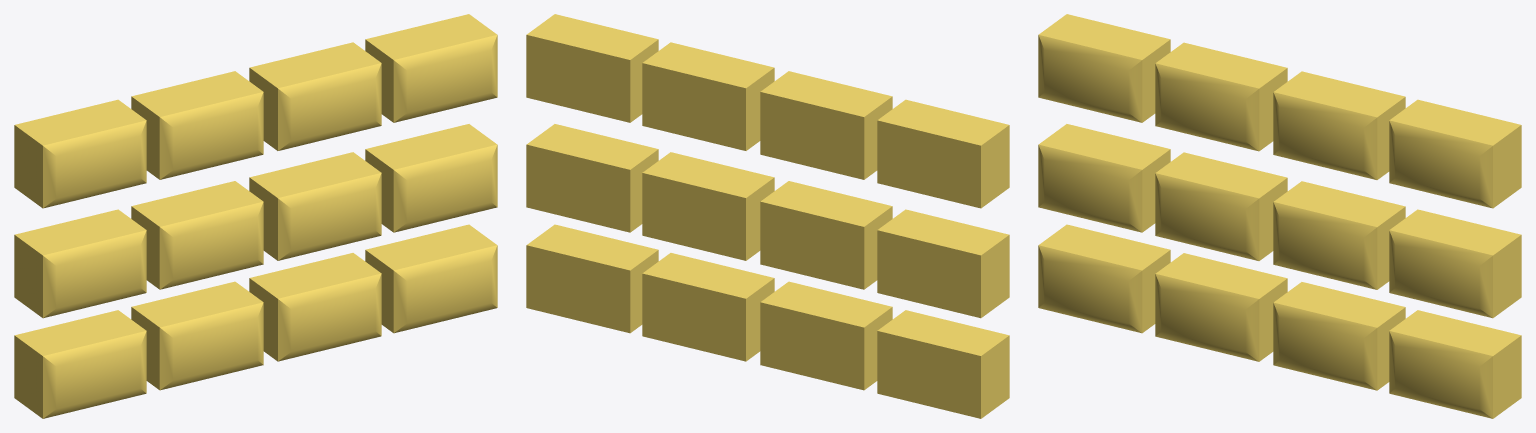
The model's file is MeshRemotebuttons2_1_GeomSubset_3.obj.
The picture shows the model from 3 angles, left to right: view 1: azimuth 30°, elevation 25°; view 2: azimuth 150°, elevation 25°; view 3: azimuth 330°, elevation 25°; orthographic projection.
Visible parts, largest first — view 1: MeshRemotebuttons2_1_GeomSubset_3; view 2: MeshRemotebuttons2_1_GeomSubset_3; view 3: MeshRemotebuttons2_1_GeomSubset_3.
Boxes of the visible parts, x1,y1,x2,y2 form: MeshRemotebuttons2_1_GeomSubset_3: (14, 14, 497, 418); MeshRemotebuttons2_1_GeomSubset_3: (526, 14, 1009, 418); MeshRemotebuttons2_1_GeomSubset_3: (1038, 14, 1521, 418).
Size of the model in its own units: 0.0416 by 0.0239 by 0.0051.
